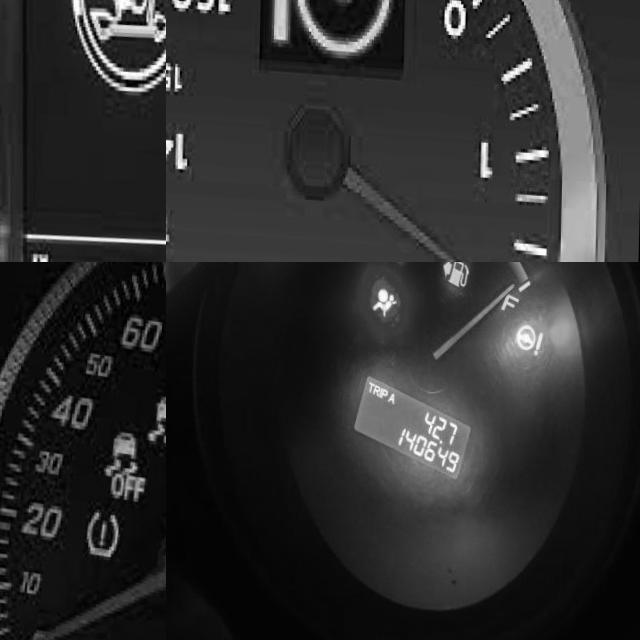Electronic Power Steering: (264, 0, 397, 59), (513, 312, 549, 354)
